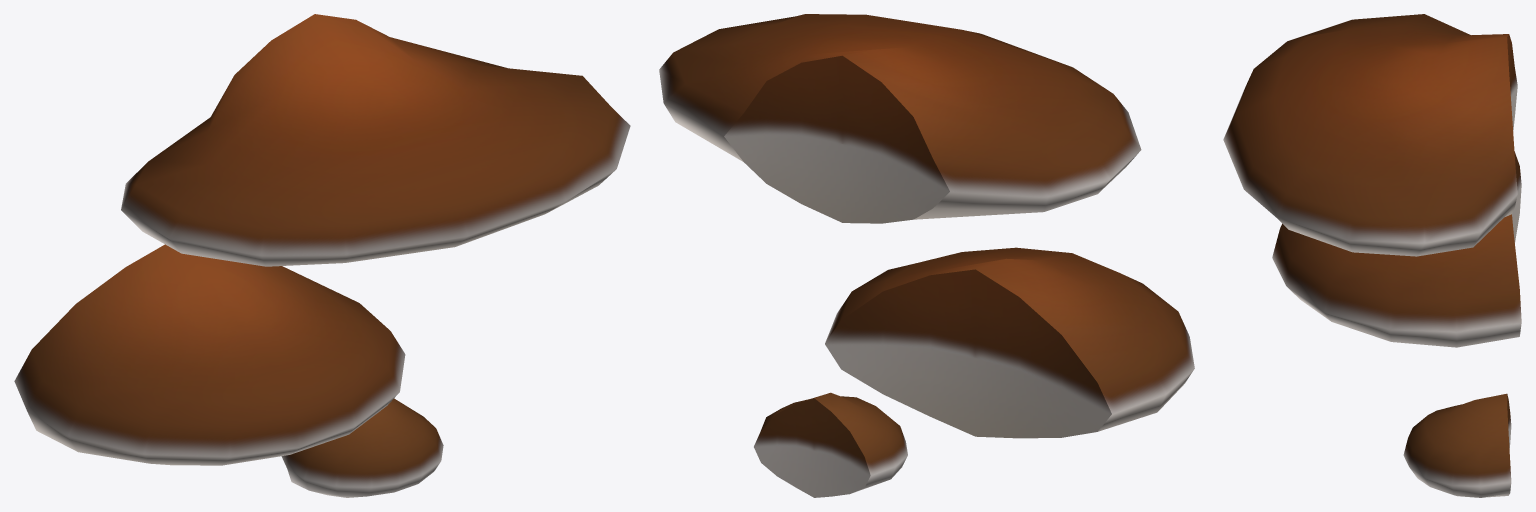
The model's file is Artists_Conk_Group_2.fbx.
3 renders of one model, left to right at view 1: azimuth 30°, elevation 25°; view 2: azimuth 150°, elevation 25°; view 3: azimuth 270°, elevation 25°, orthographic. The views are drawn at different scales.
Visible parts, largest first — view 1: Artists_Conk_Group_2; view 2: Artists_Conk_Group_2; view 3: Artists_Conk_Group_2.
Part boxes in pixels (left/top/right/bottom): Artists_Conk_Group_2: left=14, top=14, right=630, bottom=497; Artists_Conk_Group_2: left=659, top=14, right=1194, bottom=497; Artists_Conk_Group_2: left=1223, top=14, right=1521, bottom=497.
Bounding box in the file's own units: 24.11 × 19.77 × 12.14.
